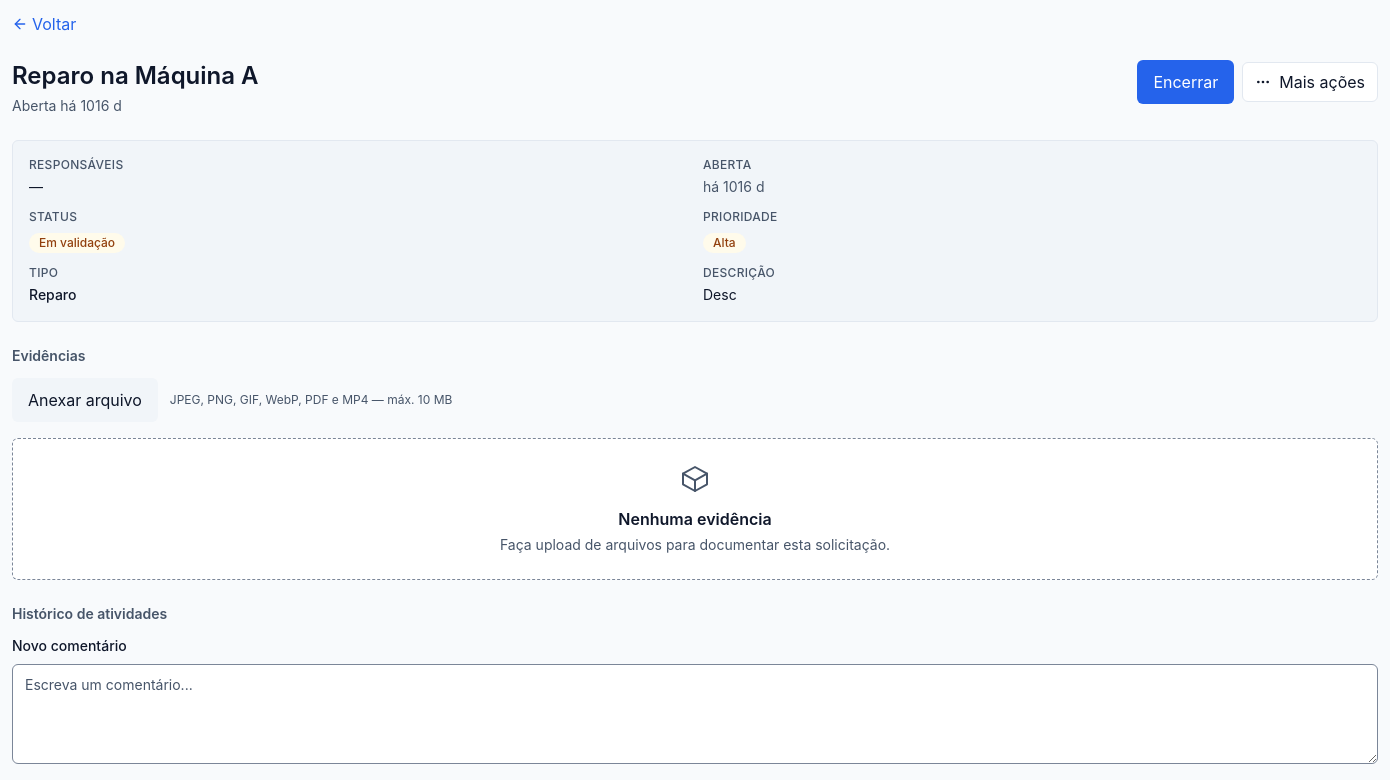
Test: SolicitacaoDetalhePage › deve mostrar Devolver em Mais ações quando o gestor vê a solicitação Em Validação
Click the button "Mais ações".
click(1310, 82)  # box [1242,62,1378,102]
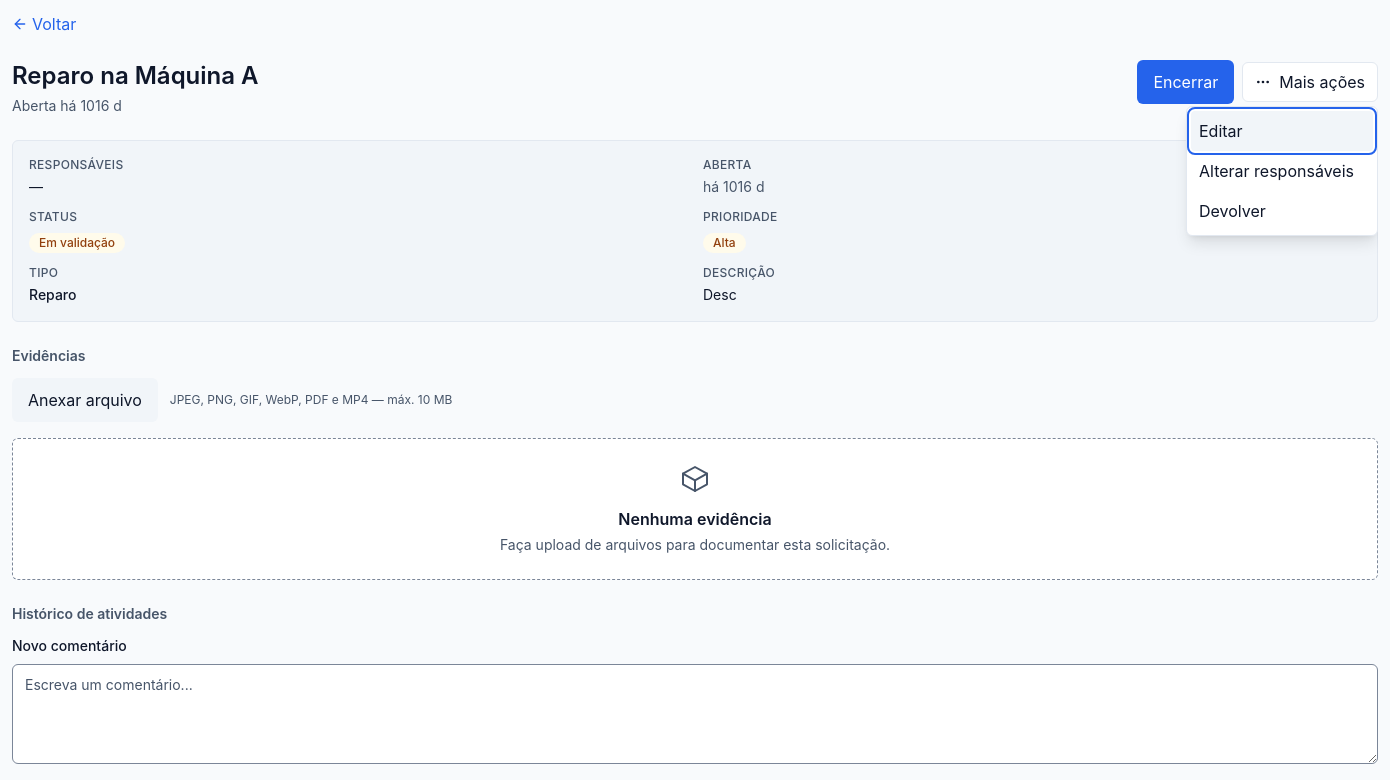
Now the menu item "Devolver" is shown, box [1191,191,1373,231]
